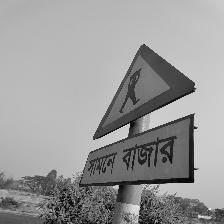Market-in-front: (81, 45, 194, 183)
